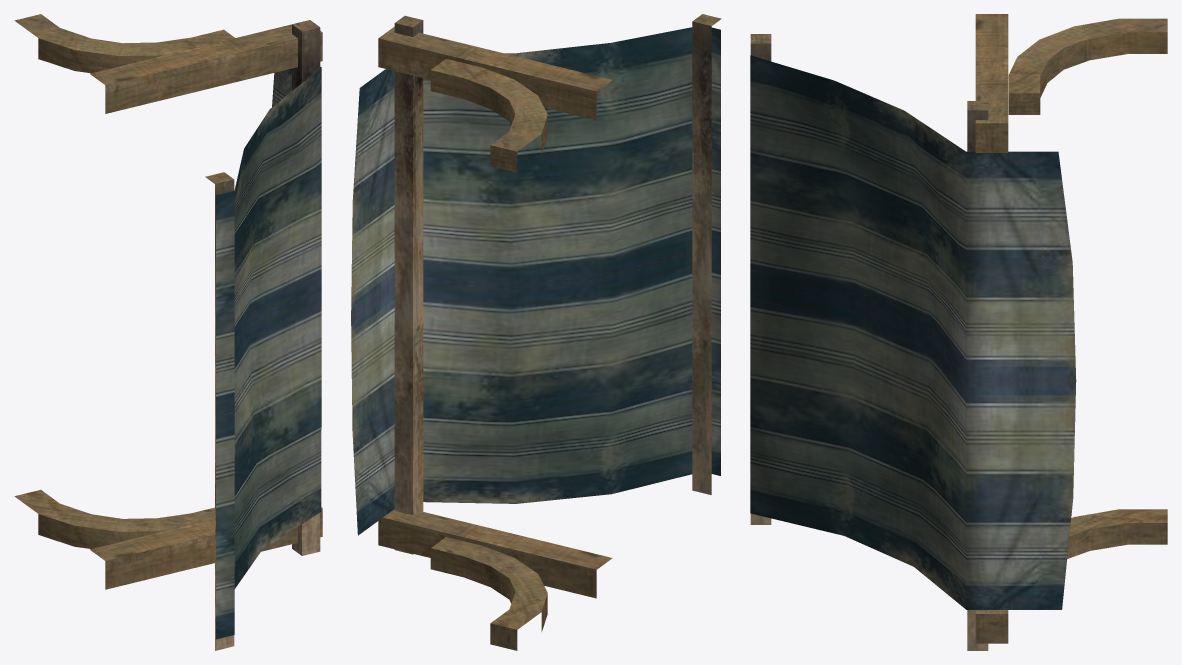
File: awning_2x4_2.glb
3 views of the same model, side by side, from view 1: azimuth 30°, elevation 25°; view 2: azimuth 150°, elevation 25°; view 3: azimuth 270°, elevation 25° (orthographic). The views are drawn at different scales.
Bounding box in the file's own units: 24.06 × 55.49 × 38.79.
1 material, 1 textured.
